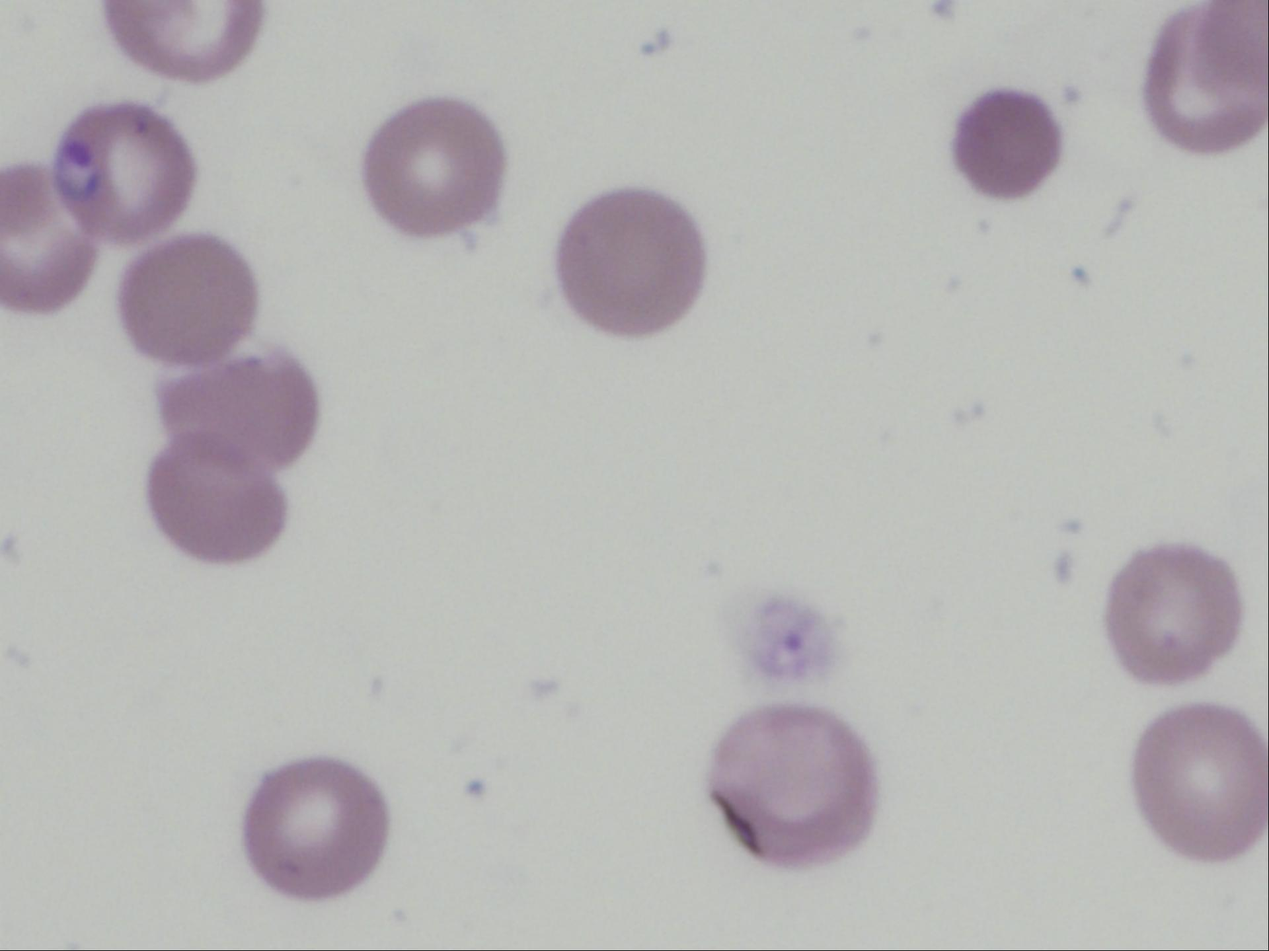Infected: (56, 103, 194, 244)
Uninfected: (711, 705, 878, 864), (557, 188, 704, 334), (1129, 706, 1265, 860), (243, 759, 385, 898), (362, 98, 504, 233), (153, 351, 314, 465), (1110, 549, 1245, 683), (145, 437, 288, 562), (1147, 3, 1264, 151), (120, 235, 258, 360), (1, 167, 98, 311), (105, 2, 260, 81), (954, 90, 1063, 196)
